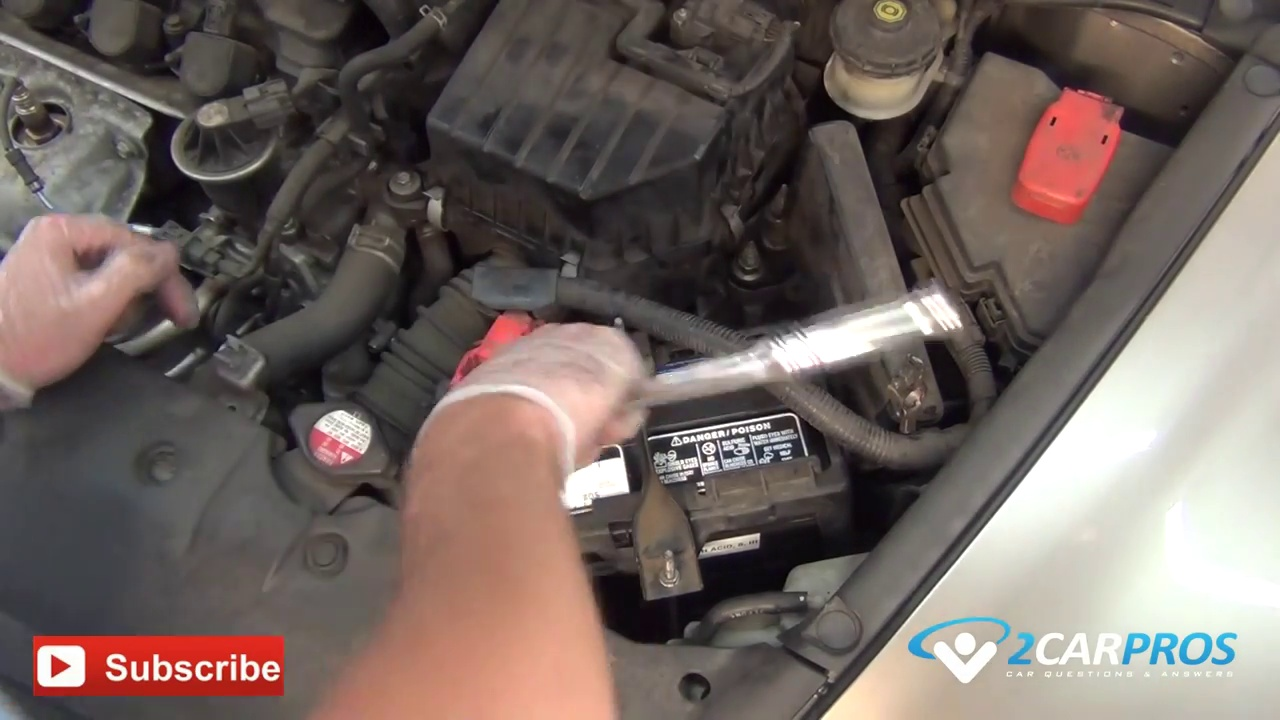battery: (443, 317, 830, 511)
pos_touched: (432, 296, 559, 407)
